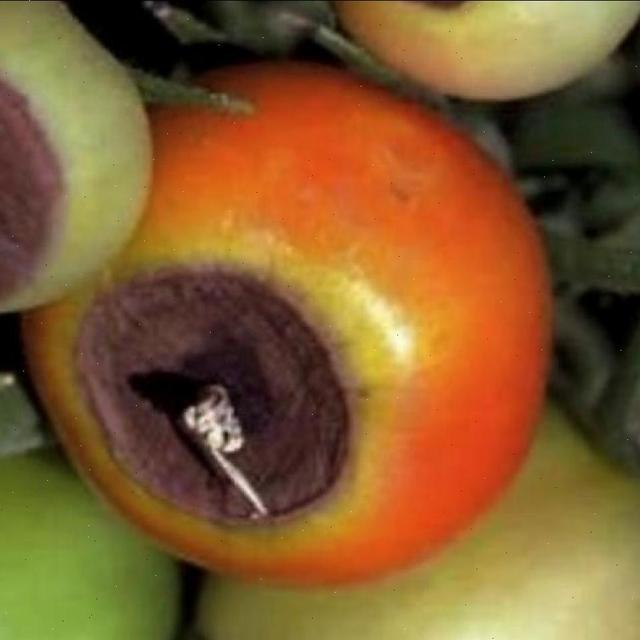Blossom End Rot Fruit: (23, 4, 295, 262)
